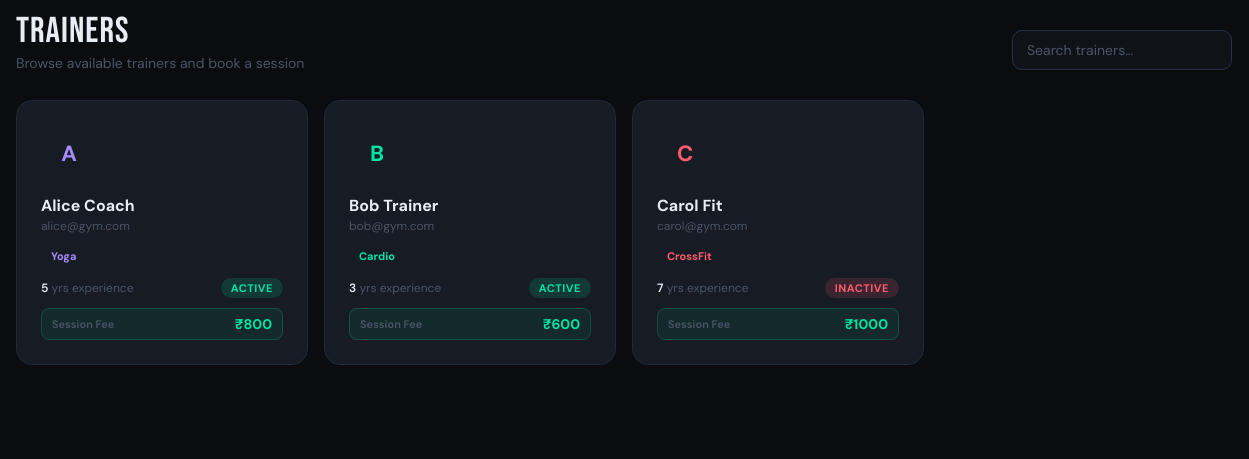
Test: MemberTrainers — slot expansion › shows slots when trainer has available slots
Click the text "Alice Coach".
click(88, 206)  # box [41,195,135,216]
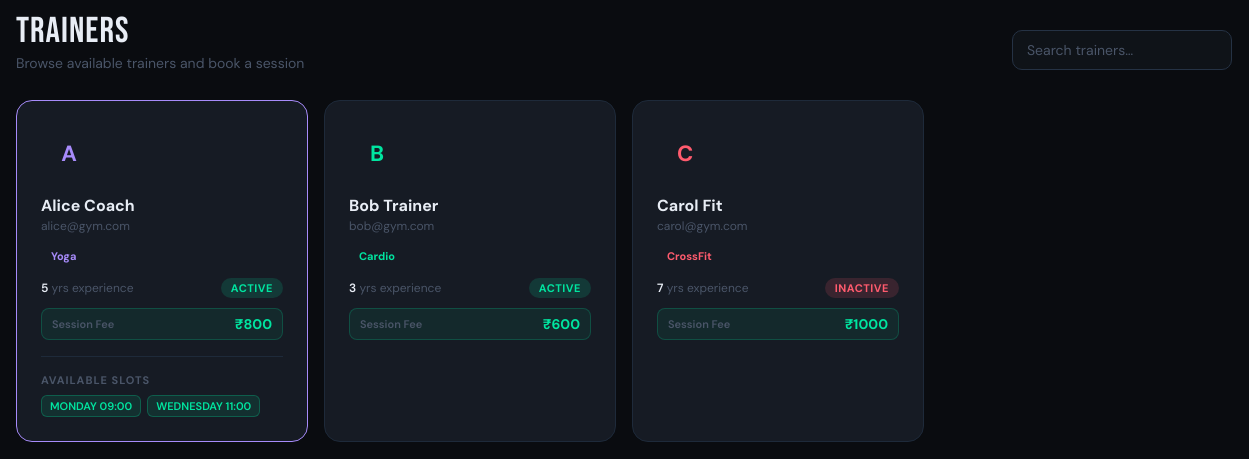
Check: the text "MONDAY 09:00" is shown, box [41,395,141,417]
Check: the text "WEDNESDAY 11:00" is shown, box [147,395,260,417]
